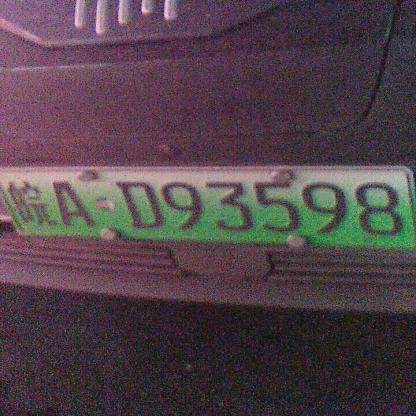lp: (22, 170, 415, 244)
